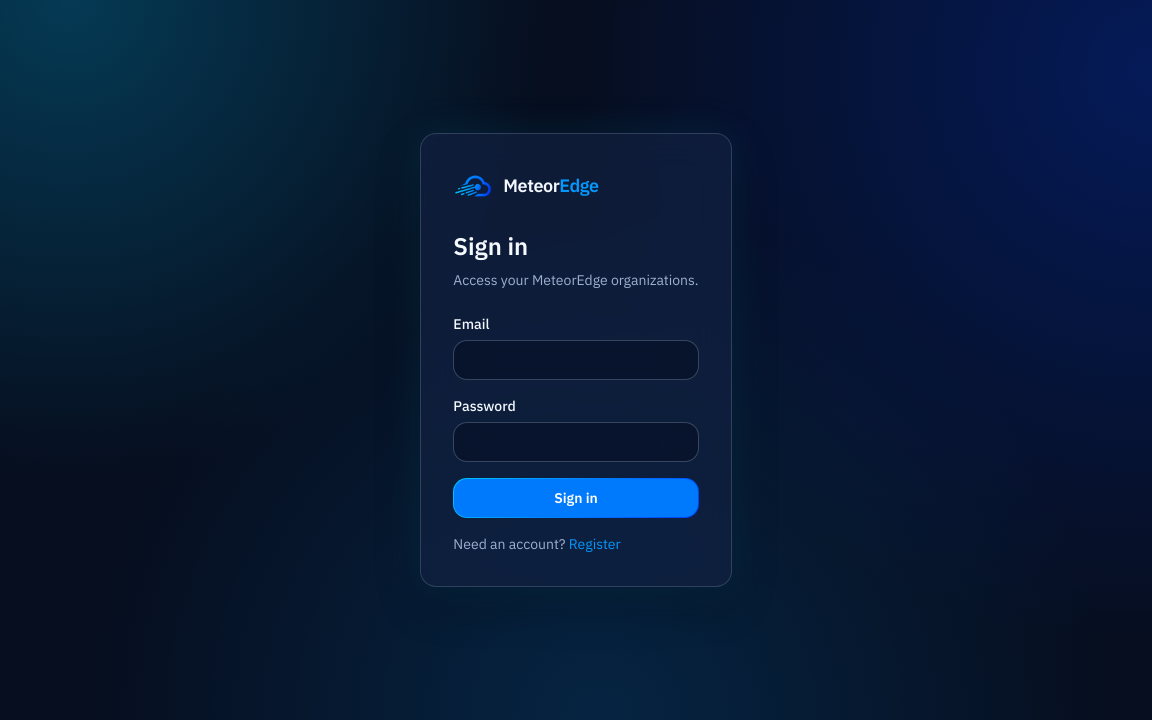
Test: App shell and auth › shows login error on failure
Type "owner@example.com" into the field labelled "Email" at (576, 360), box [453, 340, 699, 380]
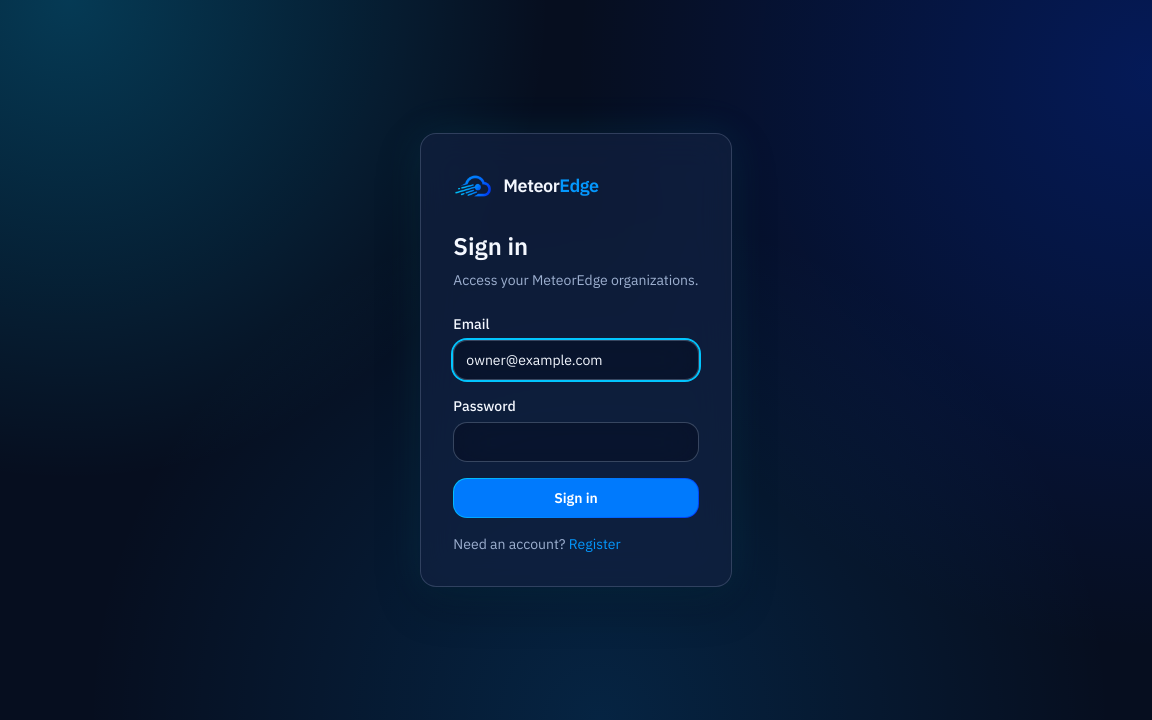
Type "wrong-password" into the password field labelled "Password" at (576, 442), box [453, 422, 699, 462]
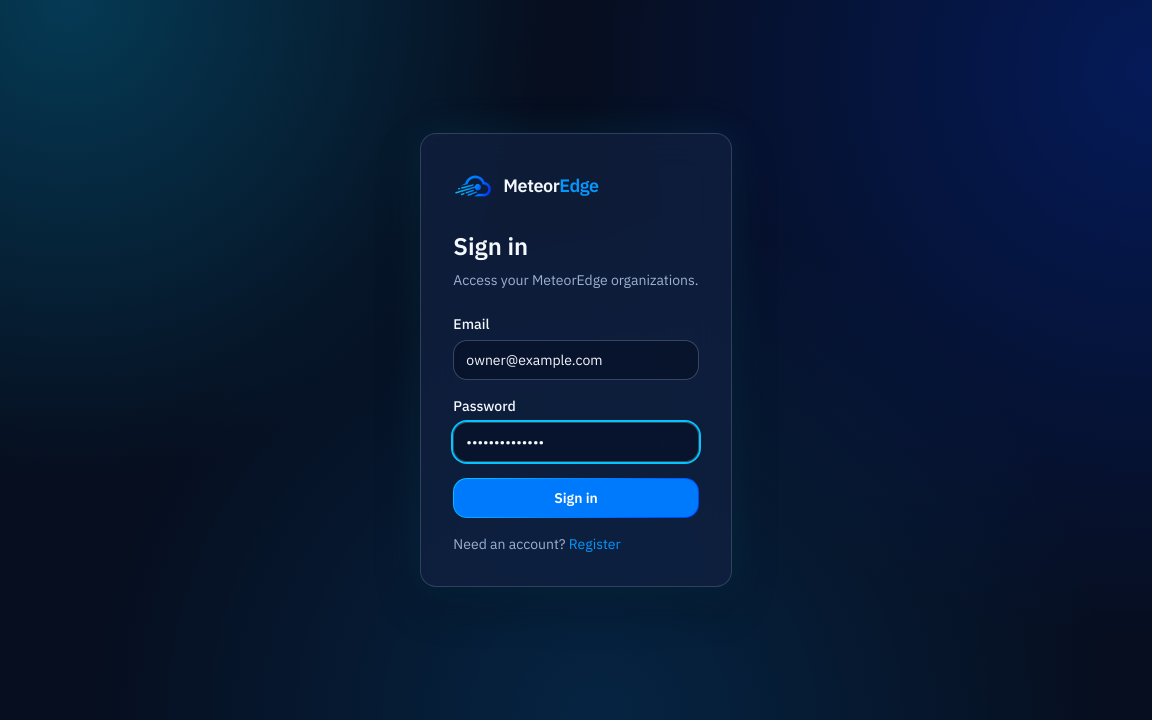
Click the button "Sign in" at (576, 498), box [453, 478, 699, 518]
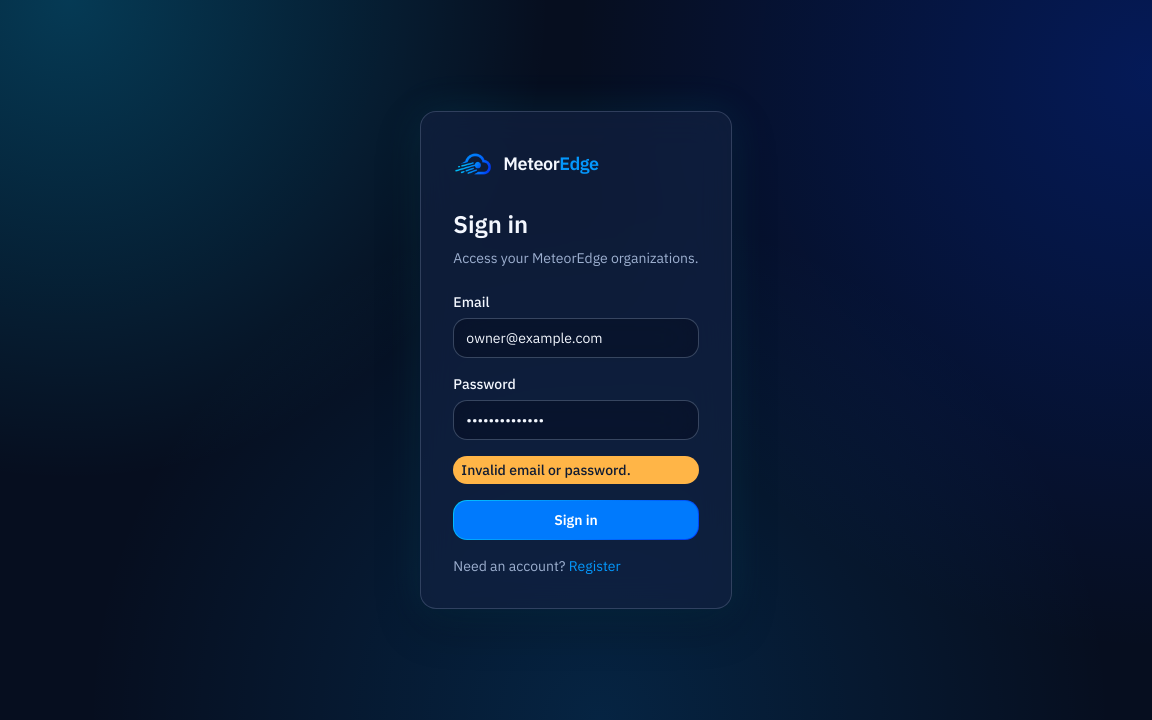
expect the text "Invalid email or password." is shown: met, box [453, 456, 699, 484]
